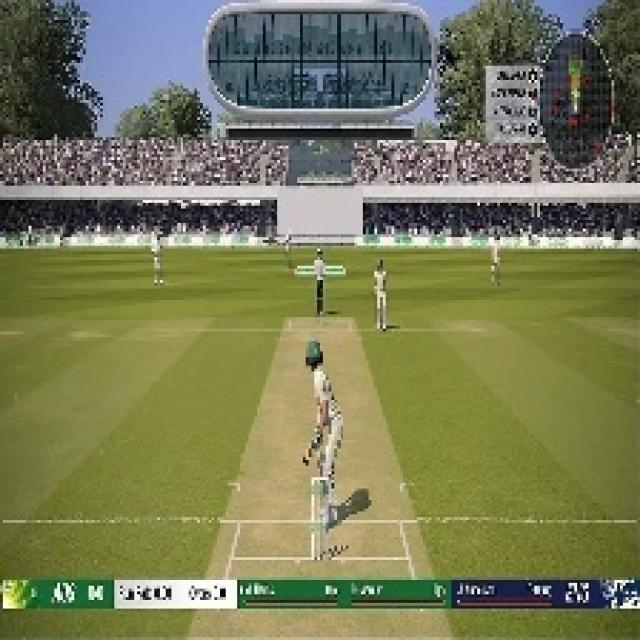batsman: (294, 334, 344, 520)
wicket: (305, 468, 331, 567)
